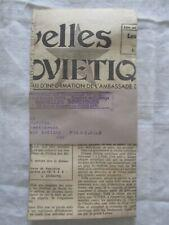paper: (28, 10, 138, 220)
